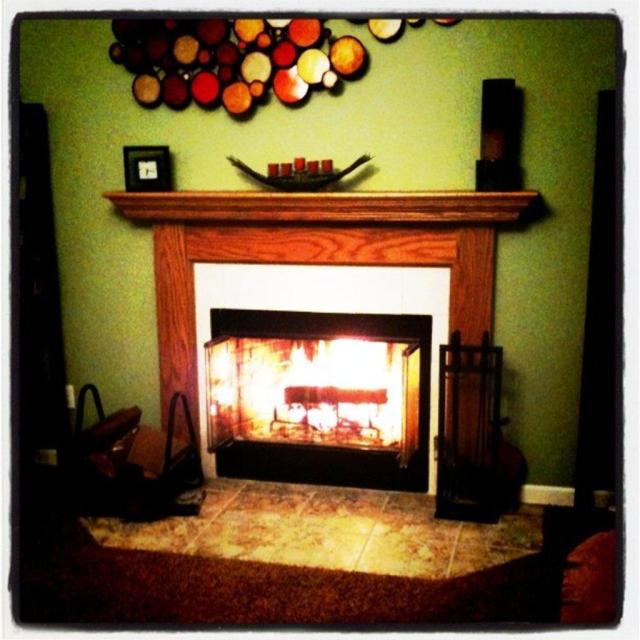Fire: (230, 340, 412, 447)
